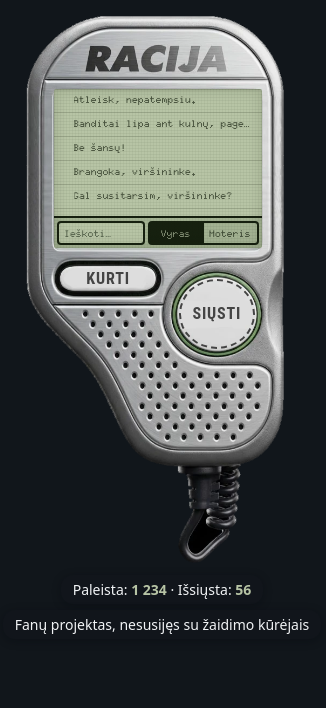
Test: Radio › SIŲSTI with nothing selected only shows the message
The width and height of the screenshot is (326, 708).
Click the button with class "skey" showing "SIŲSTI" at [217, 315], box [173,273,261,356]
Wait 50 ms
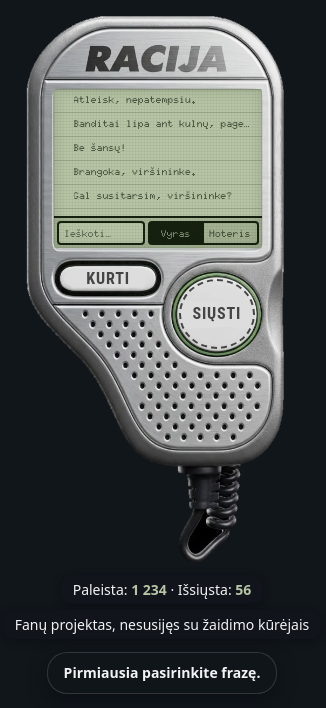
expect the text "Pirmiausia pasirinkite frazę." is shown: met, box [47,652,277,694]
